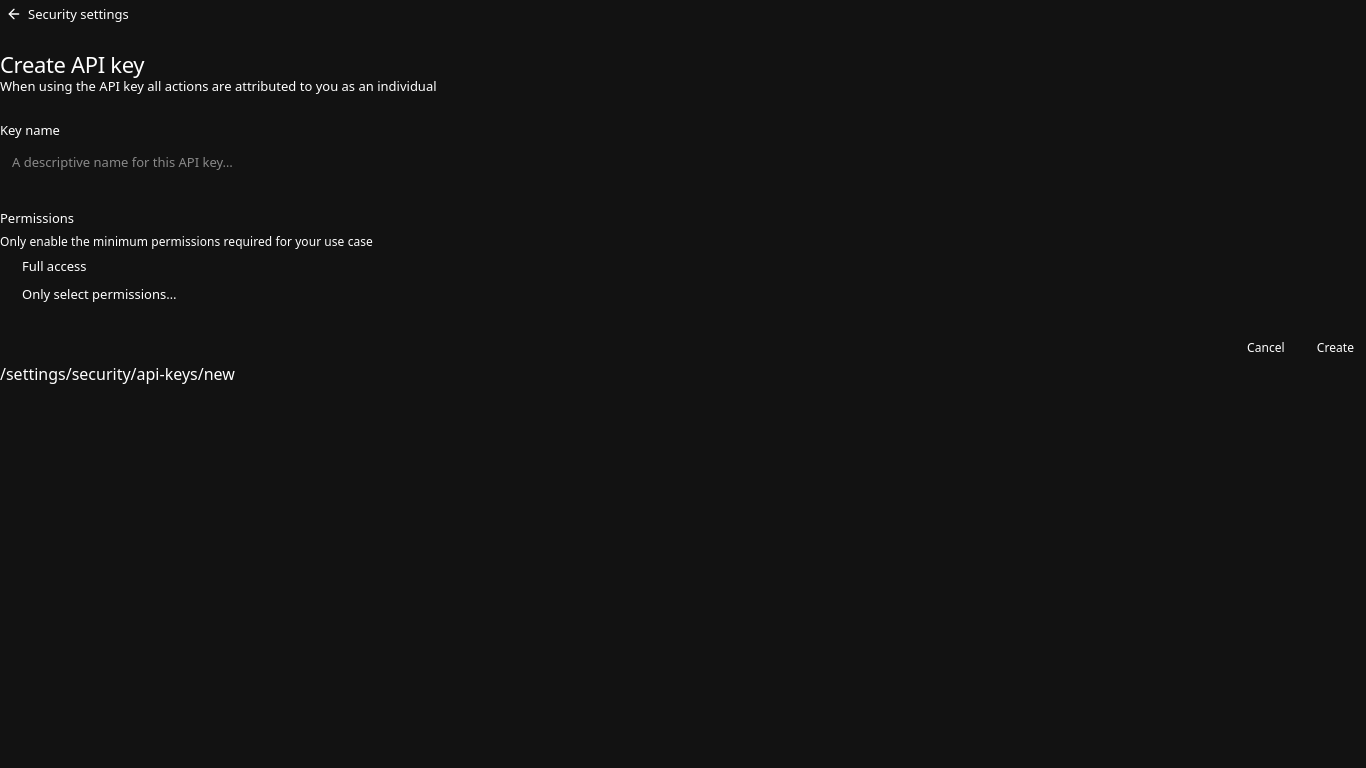
Scenario: ApiKeyCreatePage › as Admin › one-time token dialog › shows the error toast when the clipboard rejects
Step 1. Type "CI deploy" into the field labelled "Key name" → (683, 162), box [0, 146, 1365, 178]
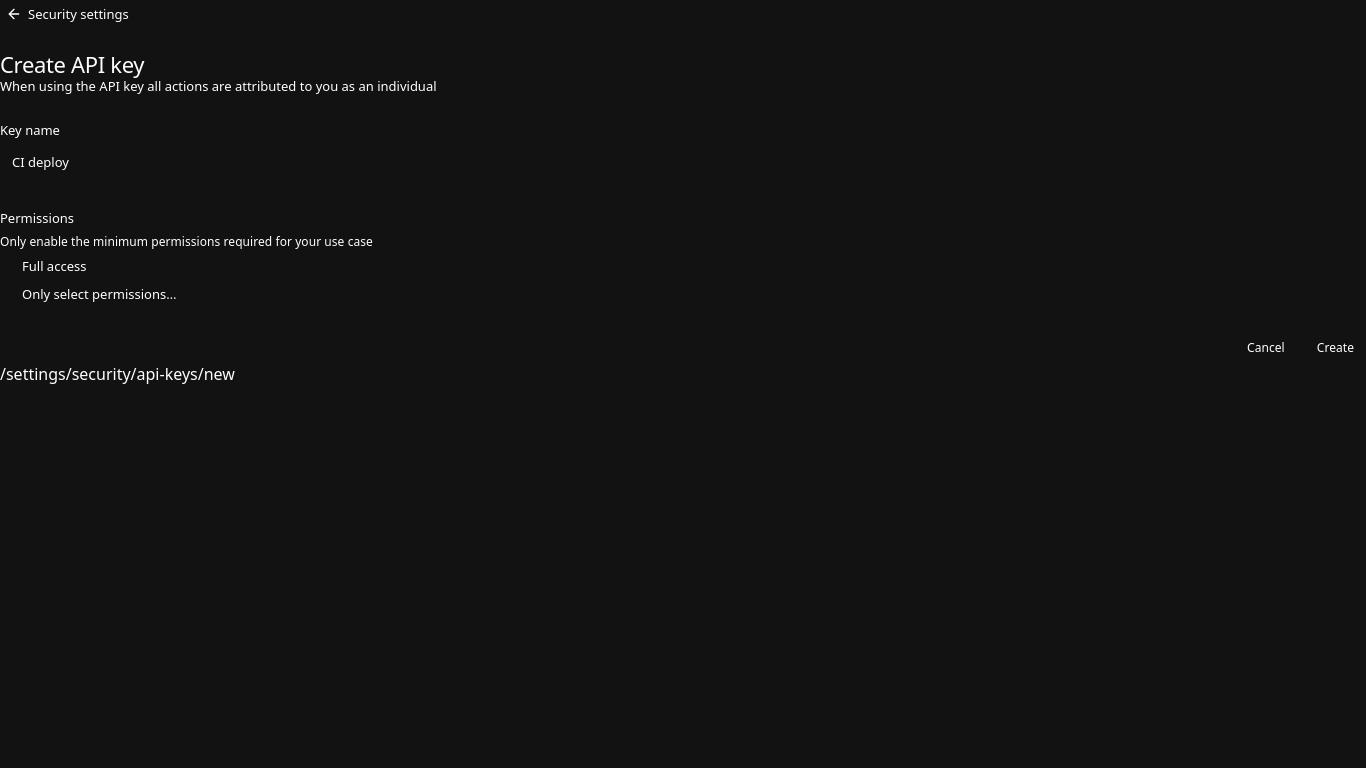
Step 2. Click the button "Create" → (1335, 348), box [1305, 334, 1365, 362]
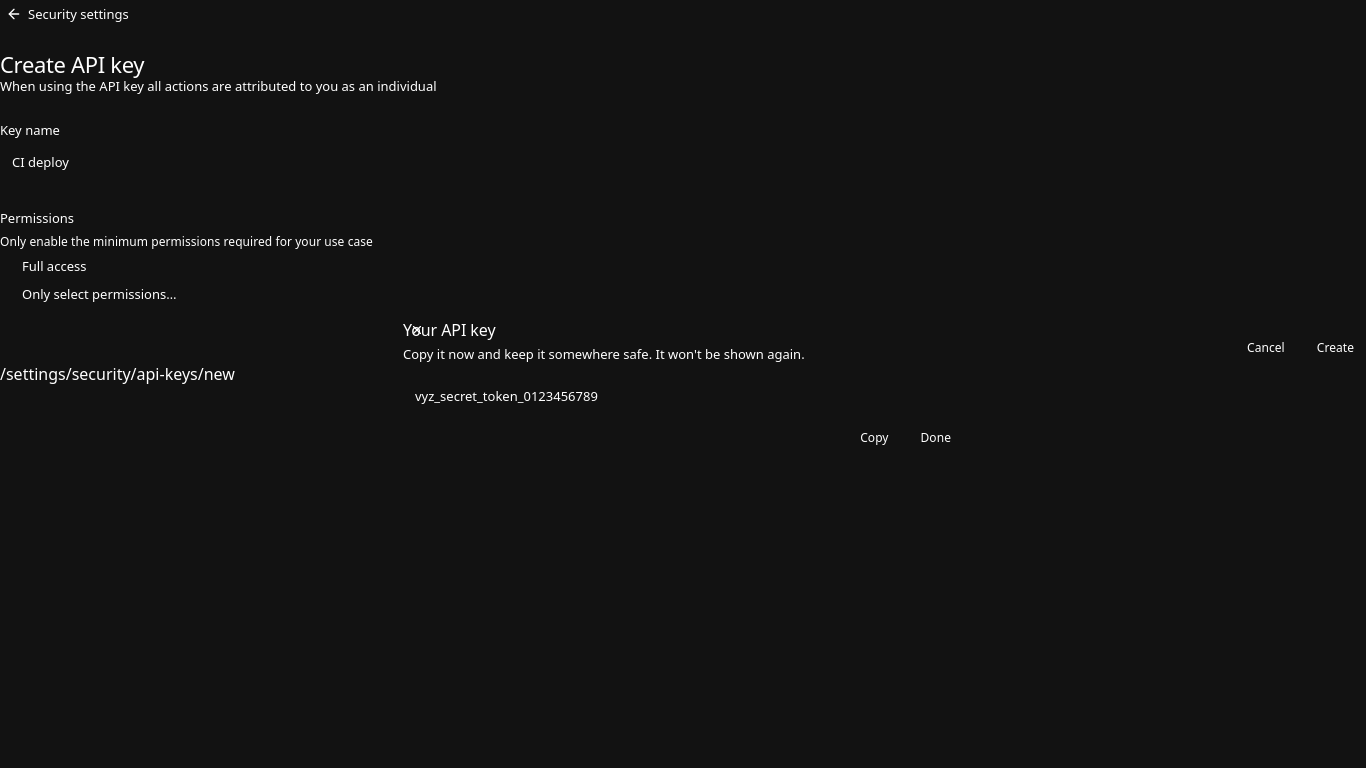
Result: the dialog "Your API key" is shown at [403, 304, 963, 464]
Step 3. Click the button "Copy" → (874, 438), box [848, 424, 901, 452]
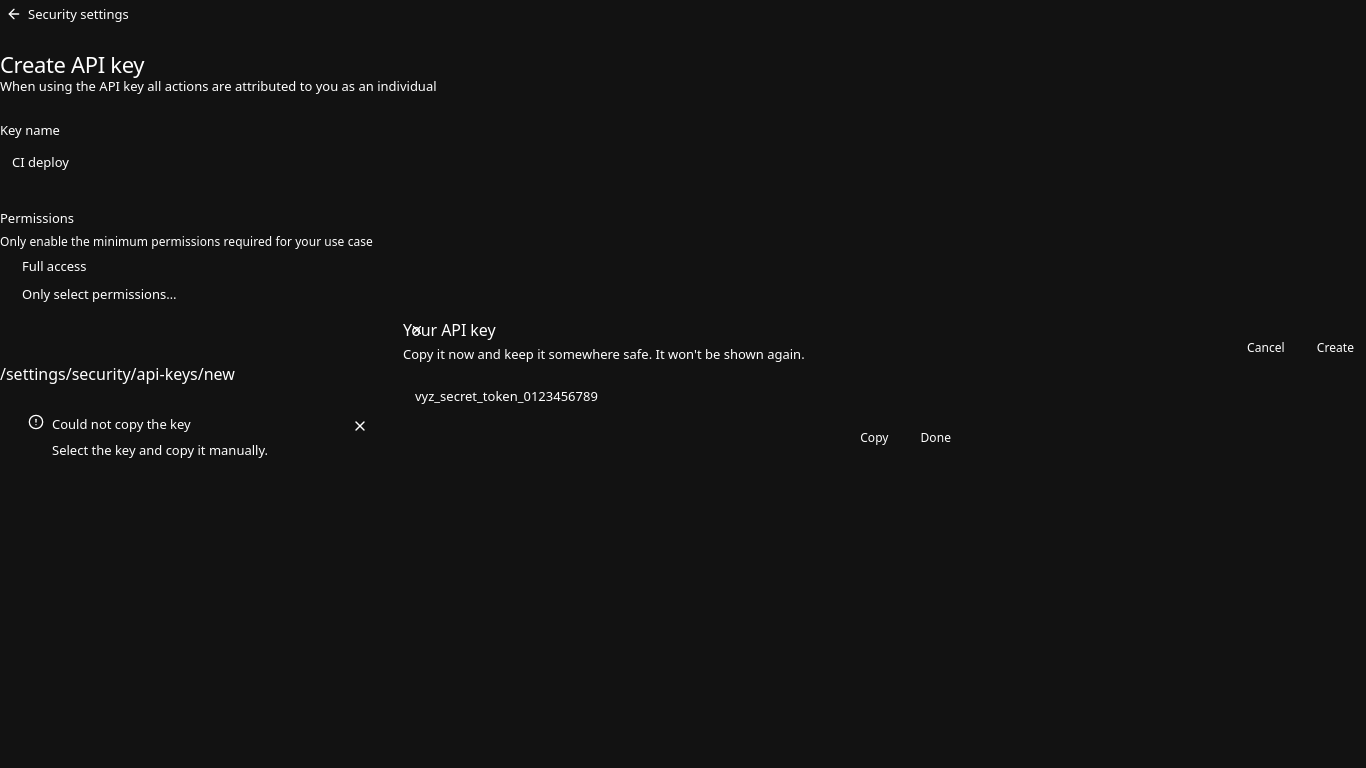
Result: the text "Could not copy the key" is shown at [52, 415, 191, 433]
